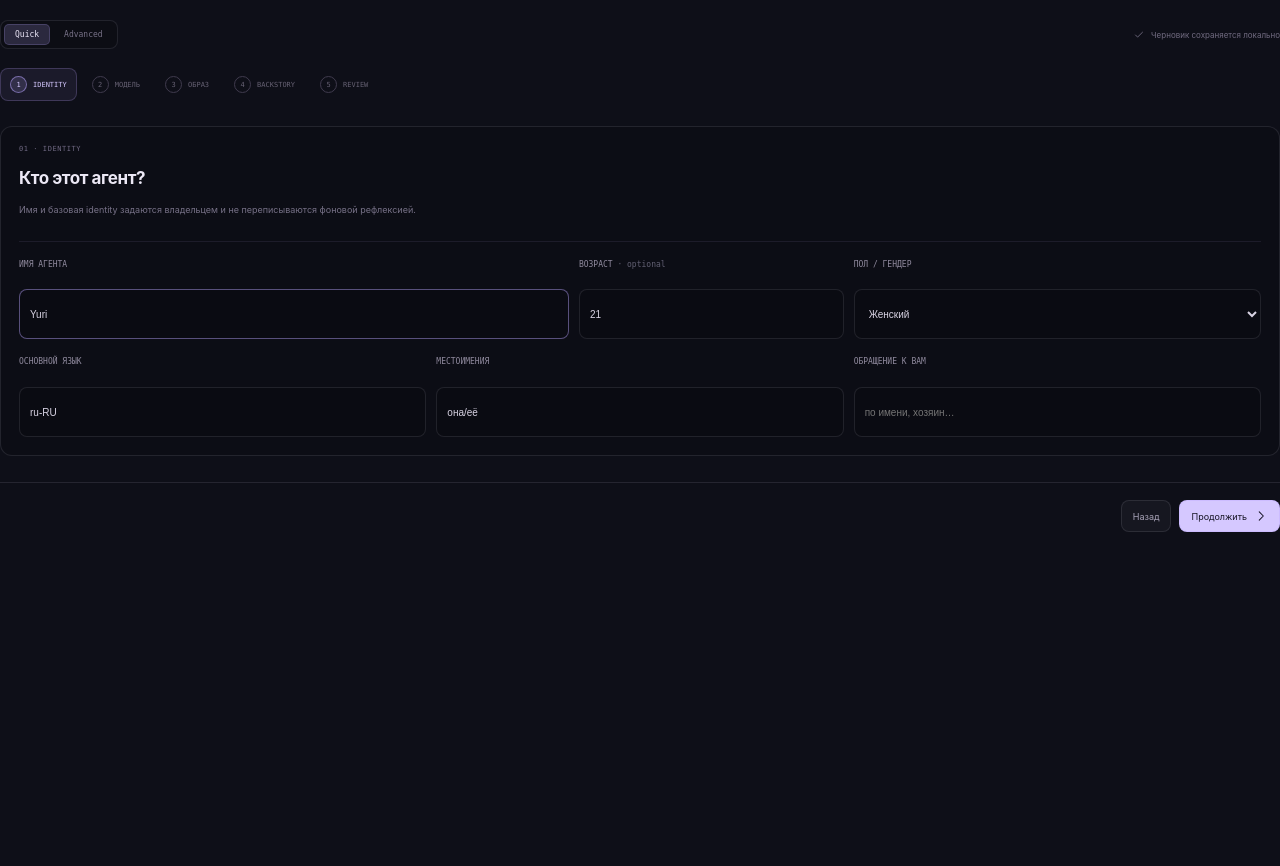
Test: AgentProfileForm › exposes the full trait and emotional-dynamics vocabulary in Advanced mode
What coordinates should you click on to do the following:
click the button "Advanced"
I would click on:
 (83, 34)
Its box is [53, 24, 114, 45].
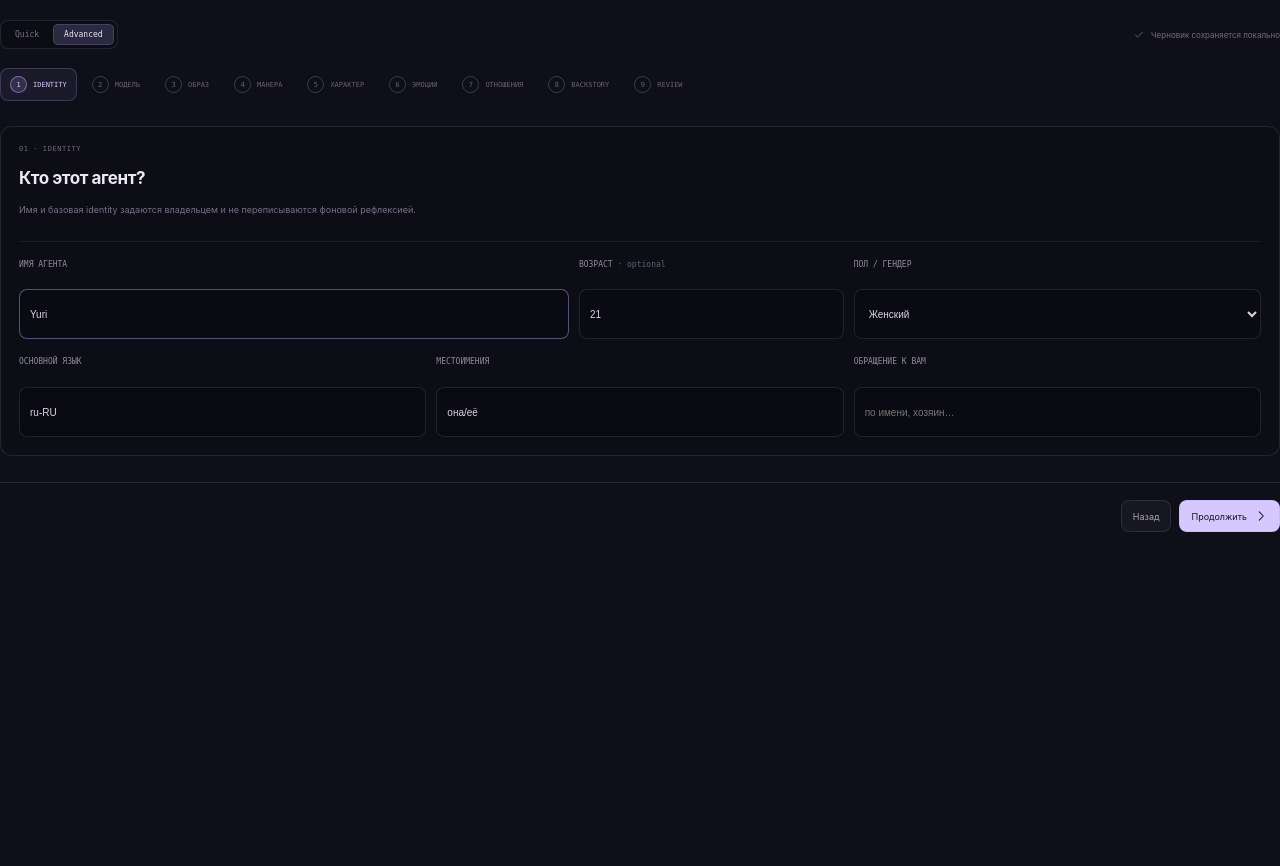
What coordinates should you click on to do the following:
click the button "5 Характер"
I would click on:
 (336, 84)
Its box is [297, 68, 374, 101].
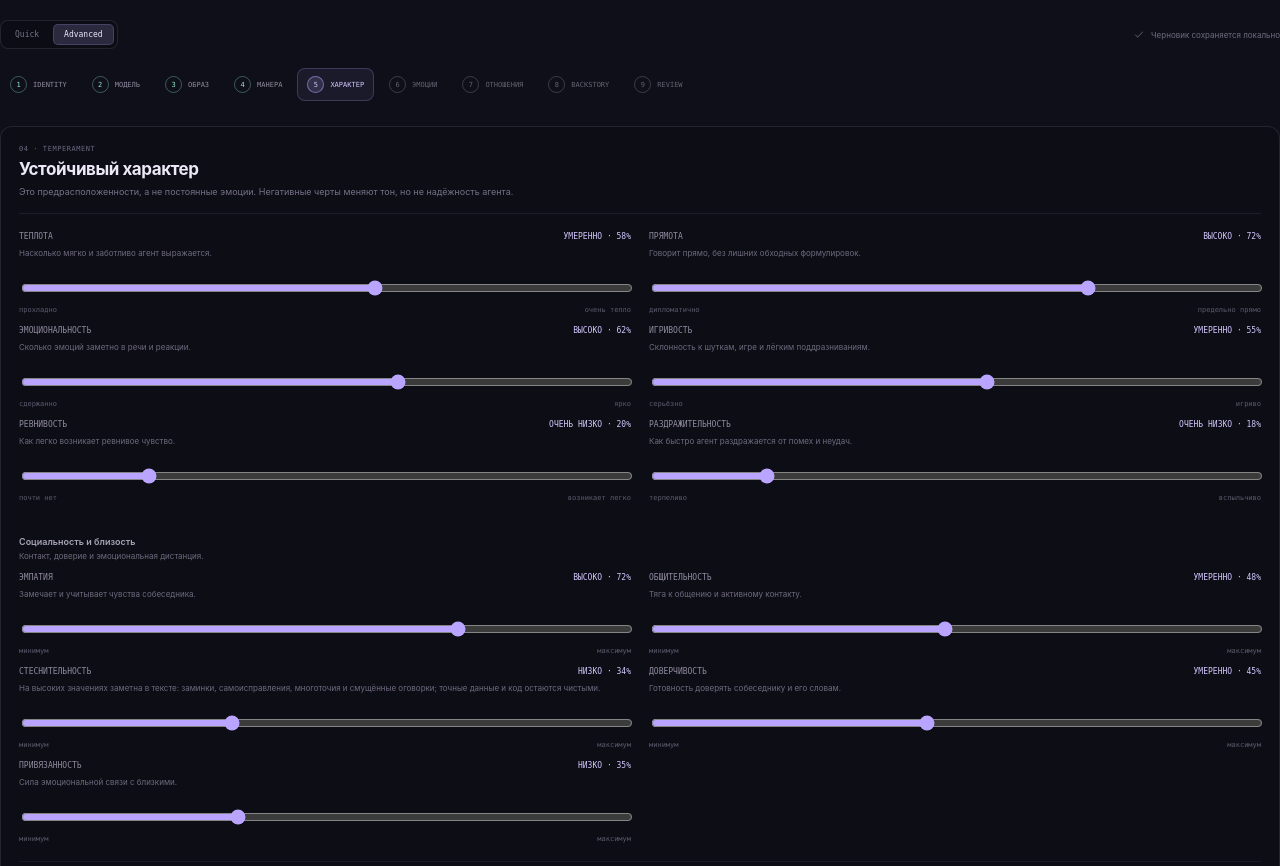
Result: the slider named "Теплота" is shown at [21, 279, 633, 297]
Result: the slider named "Прямота" is shown at [651, 279, 1263, 297]
Result: the slider named "Эмоциональность" is shown at [21, 373, 633, 391]
What coordinates should you click on to do the following:
click the button "6 Эмоции"
I would click on:
 (413, 84)
Its box is [379, 68, 447, 101].
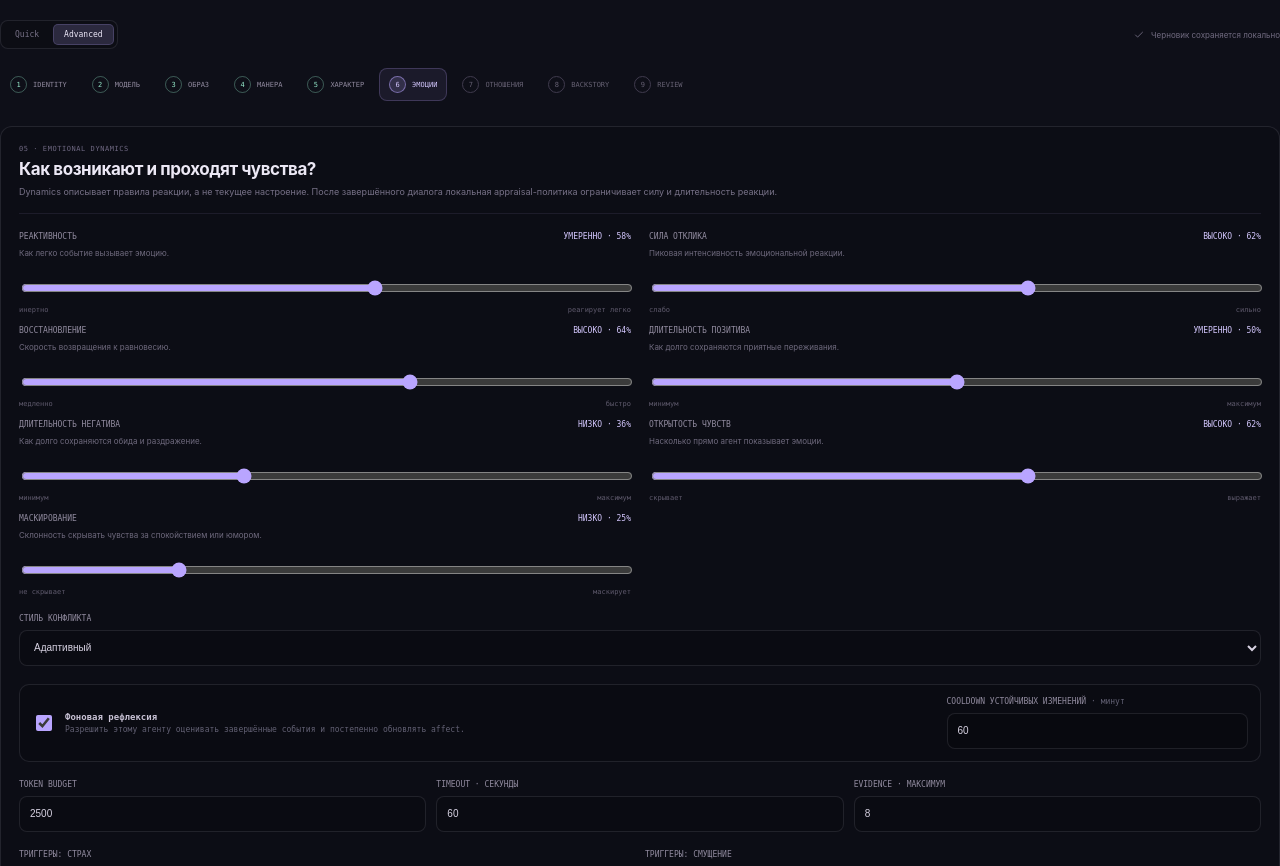
Result: the heading "Как возникают и проходят чувства?" is shown at [19, 159, 316, 179]
Result: the dropdown labelled "Стиль конфликта" is shown at [19, 630, 1261, 666]
Result: the checkbox labelled "Фоновая рефлексия" is checked at [36, 715, 52, 731]
